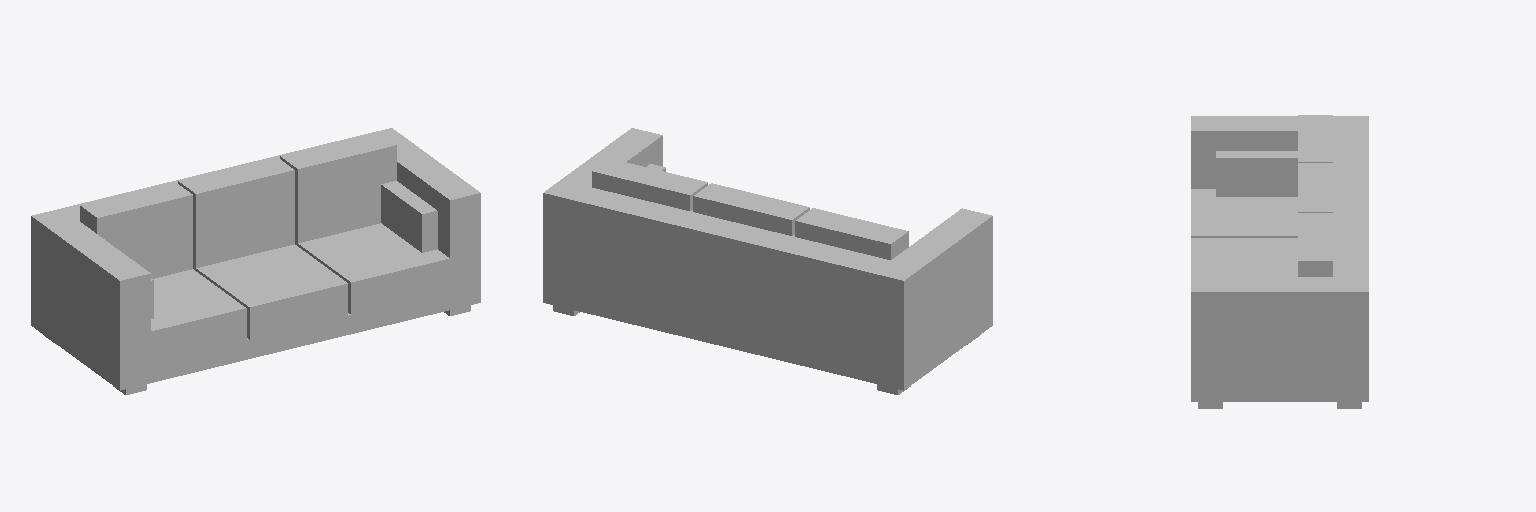
Rendered from Sofa.obj.
3 renders of one model, left to right at view 1: azimuth 30°, elevation 25°; view 2: azimuth 150°, elevation 25°; view 3: azimuth 270°, elevation 25°, orthographic.
Parts seen in each view (by area): view 1: Untitled.001, Untitled; view 2: Untitled, Untitled.001; view 3: Untitled, Untitled.001.
Part boxes in pixels (x1,y1,x2,y2): Untitled.001: (80,132,449,363); Untitled: (31,128,480,390); Untitled: (543,128,992,390); Untitled.001: (592,158,908,259); Untitled: (1191,116,1368,401); Untitled.001: (1191,115,1332,276).
Size of the model in its own units: 11.7 by 4.2 by 5.